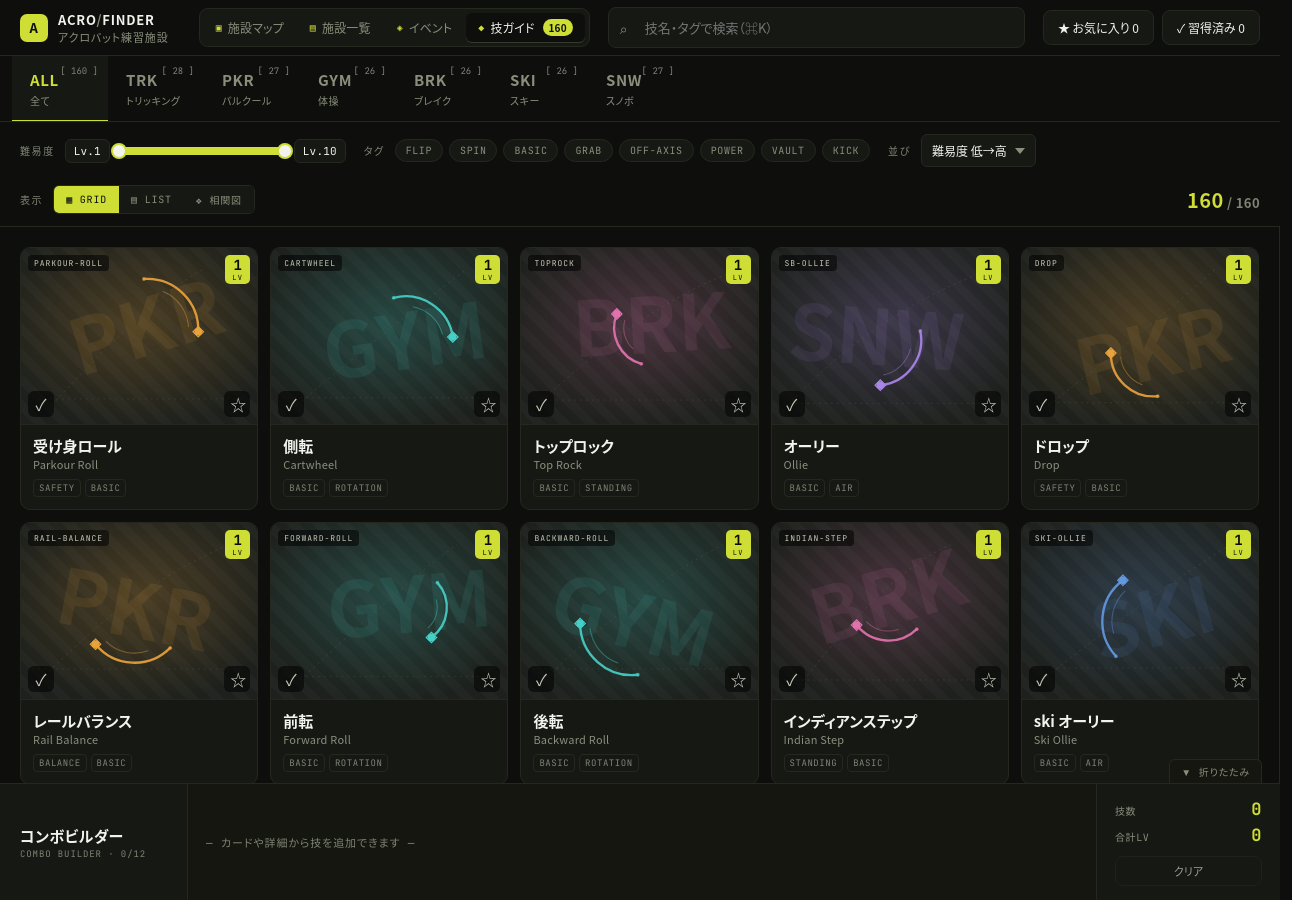
SkillsApp › opens the detail panel when a card is clicked
Click the element with class "skl-card" that starts with "PKR" at (139, 378), box [20, 247, 258, 510]
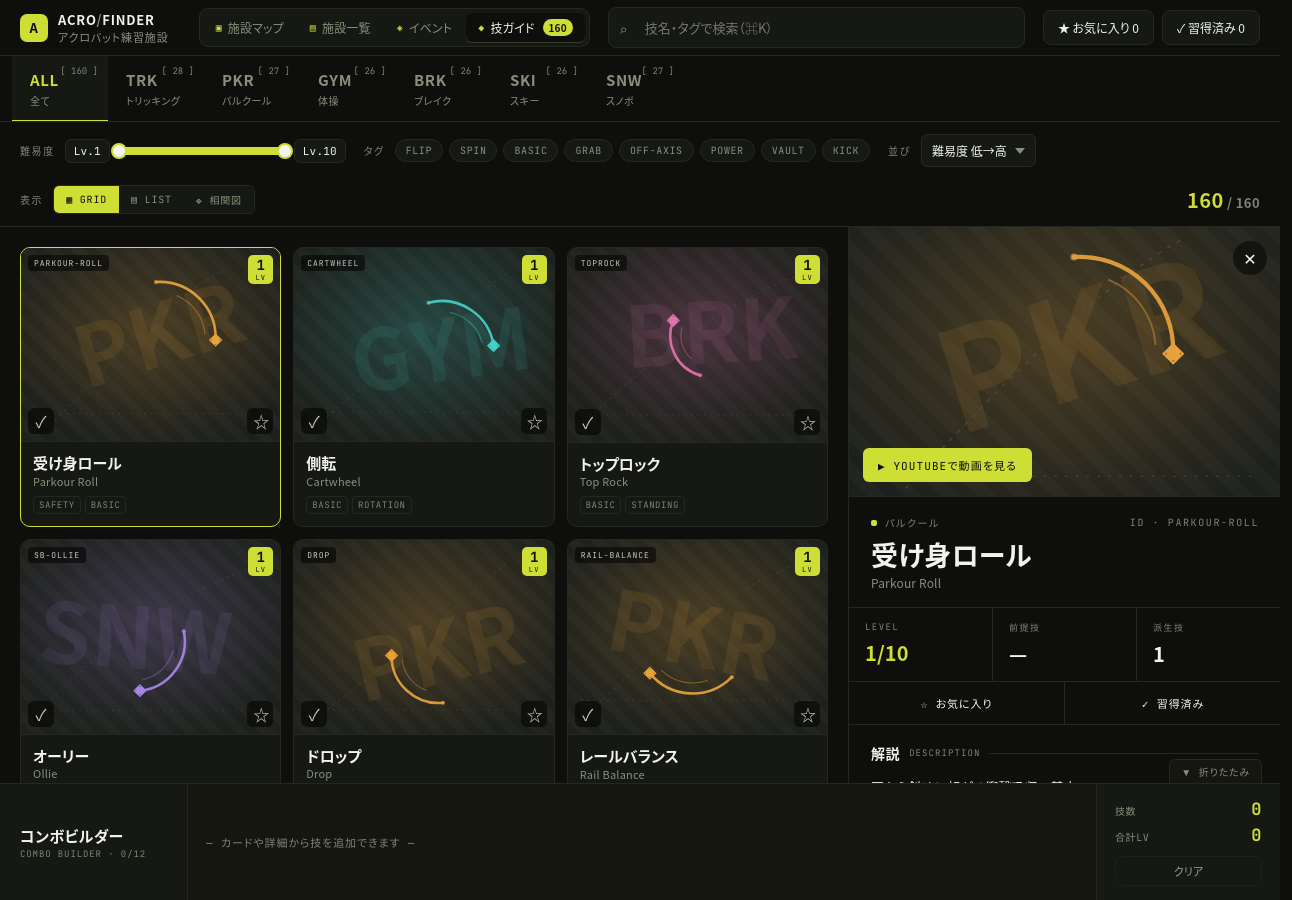
Now the element with class "open" is shown, box [848, 227, 1280, 783]
